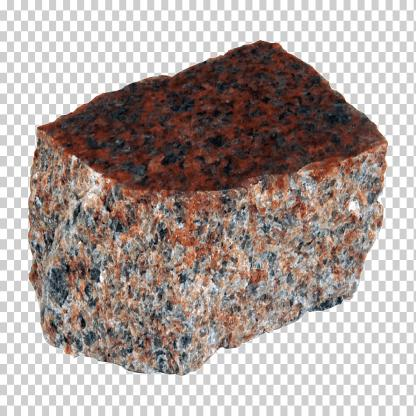Igneous_Granite: (27, 36, 389, 356)
